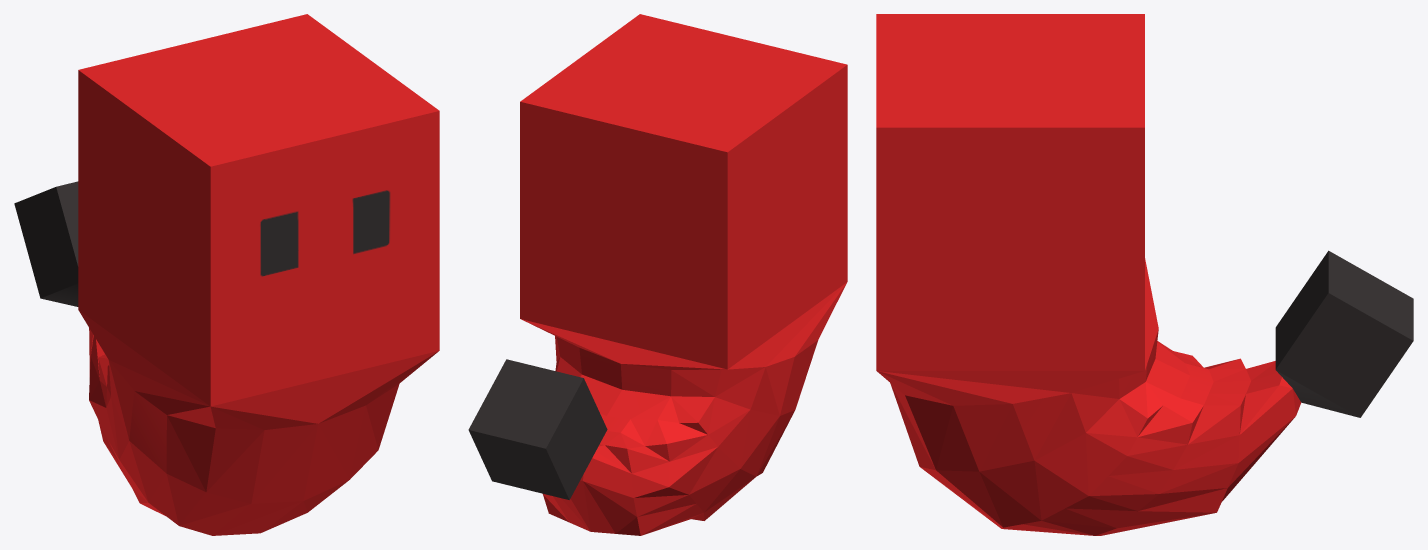
The model's file is boxEnemy.obj.
The picture shows the model from 3 angles, left to right: view 1: azimuth 30°, elevation 25°; view 2: azimuth 150°, elevation 25°; view 3: azimuth 270°, elevation 25°; orthographic projection. The views are drawn at different scales.
Parts seen in each view (by area): view 1: boxEnemy; view 2: boxEnemy; view 3: boxEnemy.
Boxes of the visible parts, left/top/right/bottom form: boxEnemy: left=14, top=14, right=439, bottom=535; boxEnemy: left=468, top=14, right=847, bottom=535; boxEnemy: left=876, top=14, right=1413, bottom=535.
Size of the model in its own units: 0.5309 by 0.9372 by 1.01.
